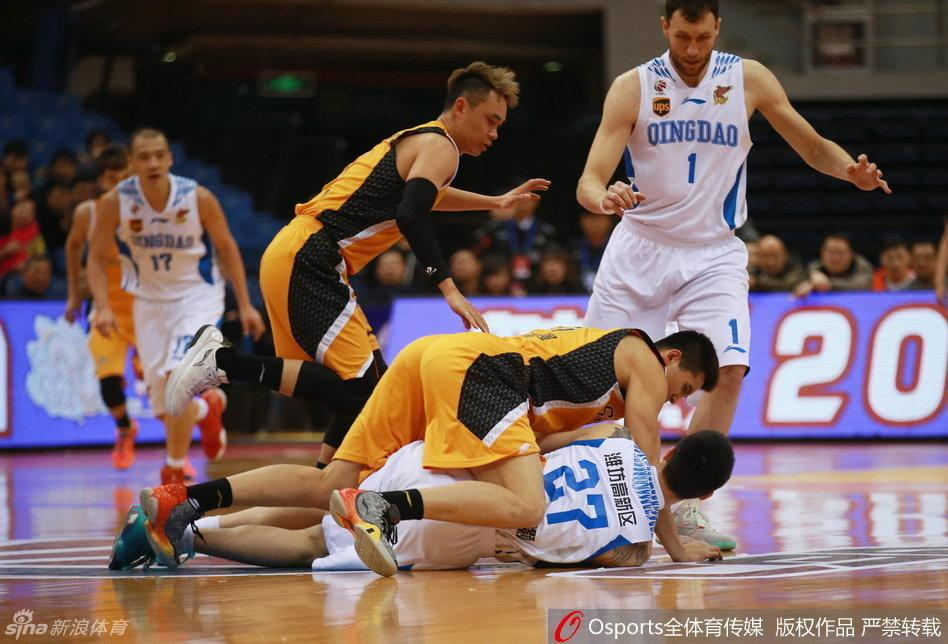bending: (255, 55, 548, 458), (90, 126, 266, 484), (60, 146, 163, 469)
down: (104, 424, 768, 569), (317, 323, 710, 444)
up: (567, 8, 888, 438)
